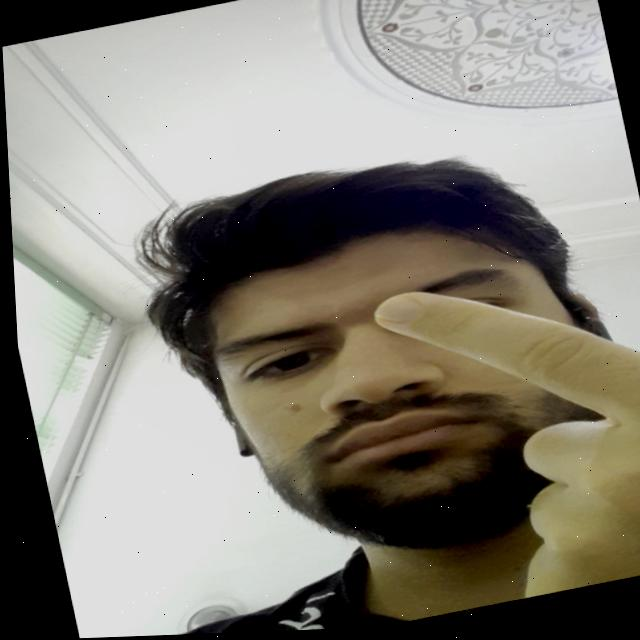Head: (114, 116, 640, 595)
One: (364, 246, 640, 620)
